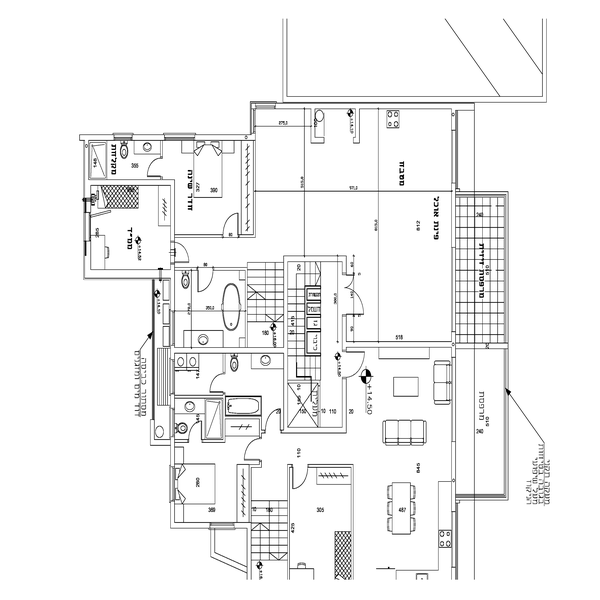door: (342, 274, 368, 320), (339, 349, 369, 382), (241, 434, 265, 465), (287, 465, 311, 493), (142, 159, 168, 183), (204, 369, 227, 394), (172, 240, 193, 266), (263, 405, 284, 431), (187, 416, 207, 443), (221, 214, 243, 238), (199, 268, 217, 289)
room: (282, 250, 354, 428), (166, 345, 290, 439), (169, 264, 291, 355), (163, 137, 257, 239), (283, 464, 358, 584)
wall: (279, 100, 477, 114), (83, 263, 174, 284), (341, 337, 455, 353), (233, 517, 262, 575), (167, 514, 209, 541), (286, 423, 348, 436), (337, 382, 352, 434), (281, 255, 347, 266), (195, 133, 256, 144), (79, 243, 97, 276), (77, 133, 113, 145), (135, 131, 163, 144), (169, 499, 180, 528)
window: (162, 345, 177, 405), (111, 131, 137, 150), (167, 131, 196, 147), (79, 212, 95, 237), (248, 98, 272, 112)
